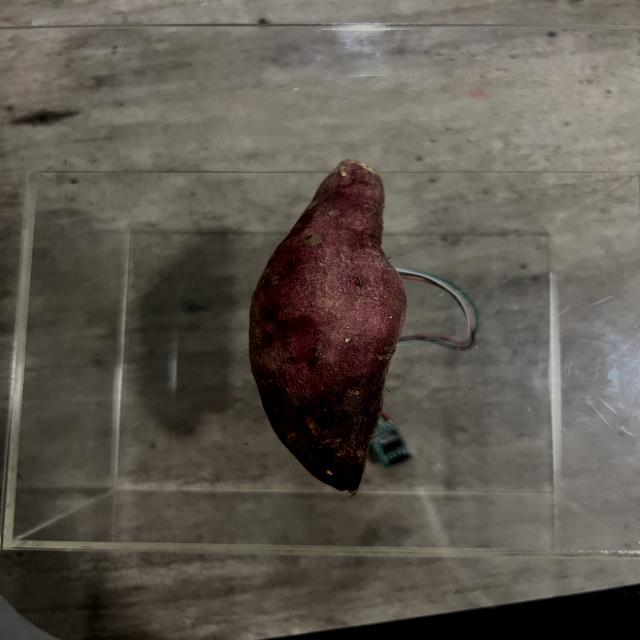sweet potato: (246, 159, 405, 495)
